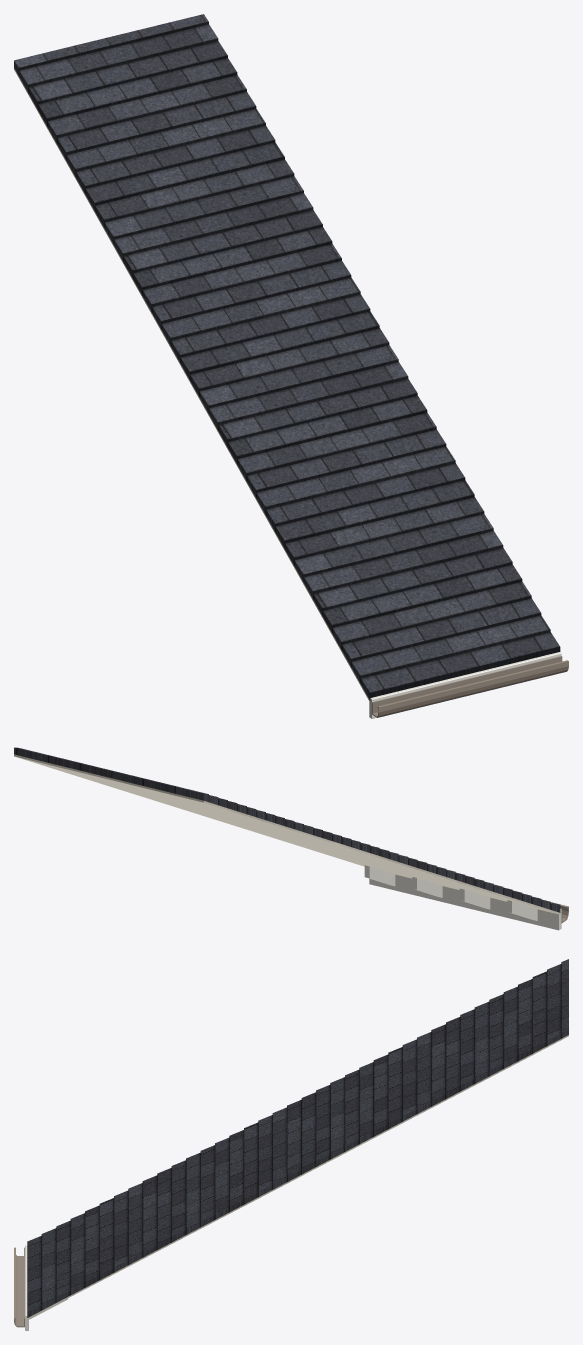
Rendered from roof_main_0.glb.
3 renders of one model, top to bottom at view 1: azimuth 30°, elevation 25°; view 2: azimuth 150°, elevation 25°; view 3: azimuth 270°, elevation 25°, orthographic. The views are drawn at different scales.
Parts seen in each view (by area): view 1: roof_main_0_shingles, roof_main_0_gutter, roof_main_0_plaster, roof_main_0_trim; view 2: roof_main_0_plaster, roof_main_0_shingles, roof_main_0_trim; view 3: roof_main_0_shingles, roof_main_0_plaster, roof_main_0_gutter.
Boxes of the visible parts, bbox=[...] form: roof_main_0_shingles: bbox=[14, 14, 560, 700]; roof_main_0_gutter: bbox=[372, 656, 568, 717]; roof_main_0_plaster: bbox=[14, 68, 370, 702]; roof_main_0_trim: bbox=[369, 652, 561, 718]; roof_main_0_plaster: bbox=[14, 754, 560, 914]; roof_main_0_shingles: bbox=[14, 747, 560, 912]; roof_main_0_trim: bbox=[364, 865, 561, 930]; roof_main_0_shingles: bbox=[27, 959, 568, 1317]; roof_main_0_plaster: bbox=[27, 1035, 568, 1319]; roof_main_0_gutter: bbox=[14, 1247, 24, 1327].
Bounding box in the file's own units: 2 × 3.99 × 6.66.
4 materials, 2 textured.
